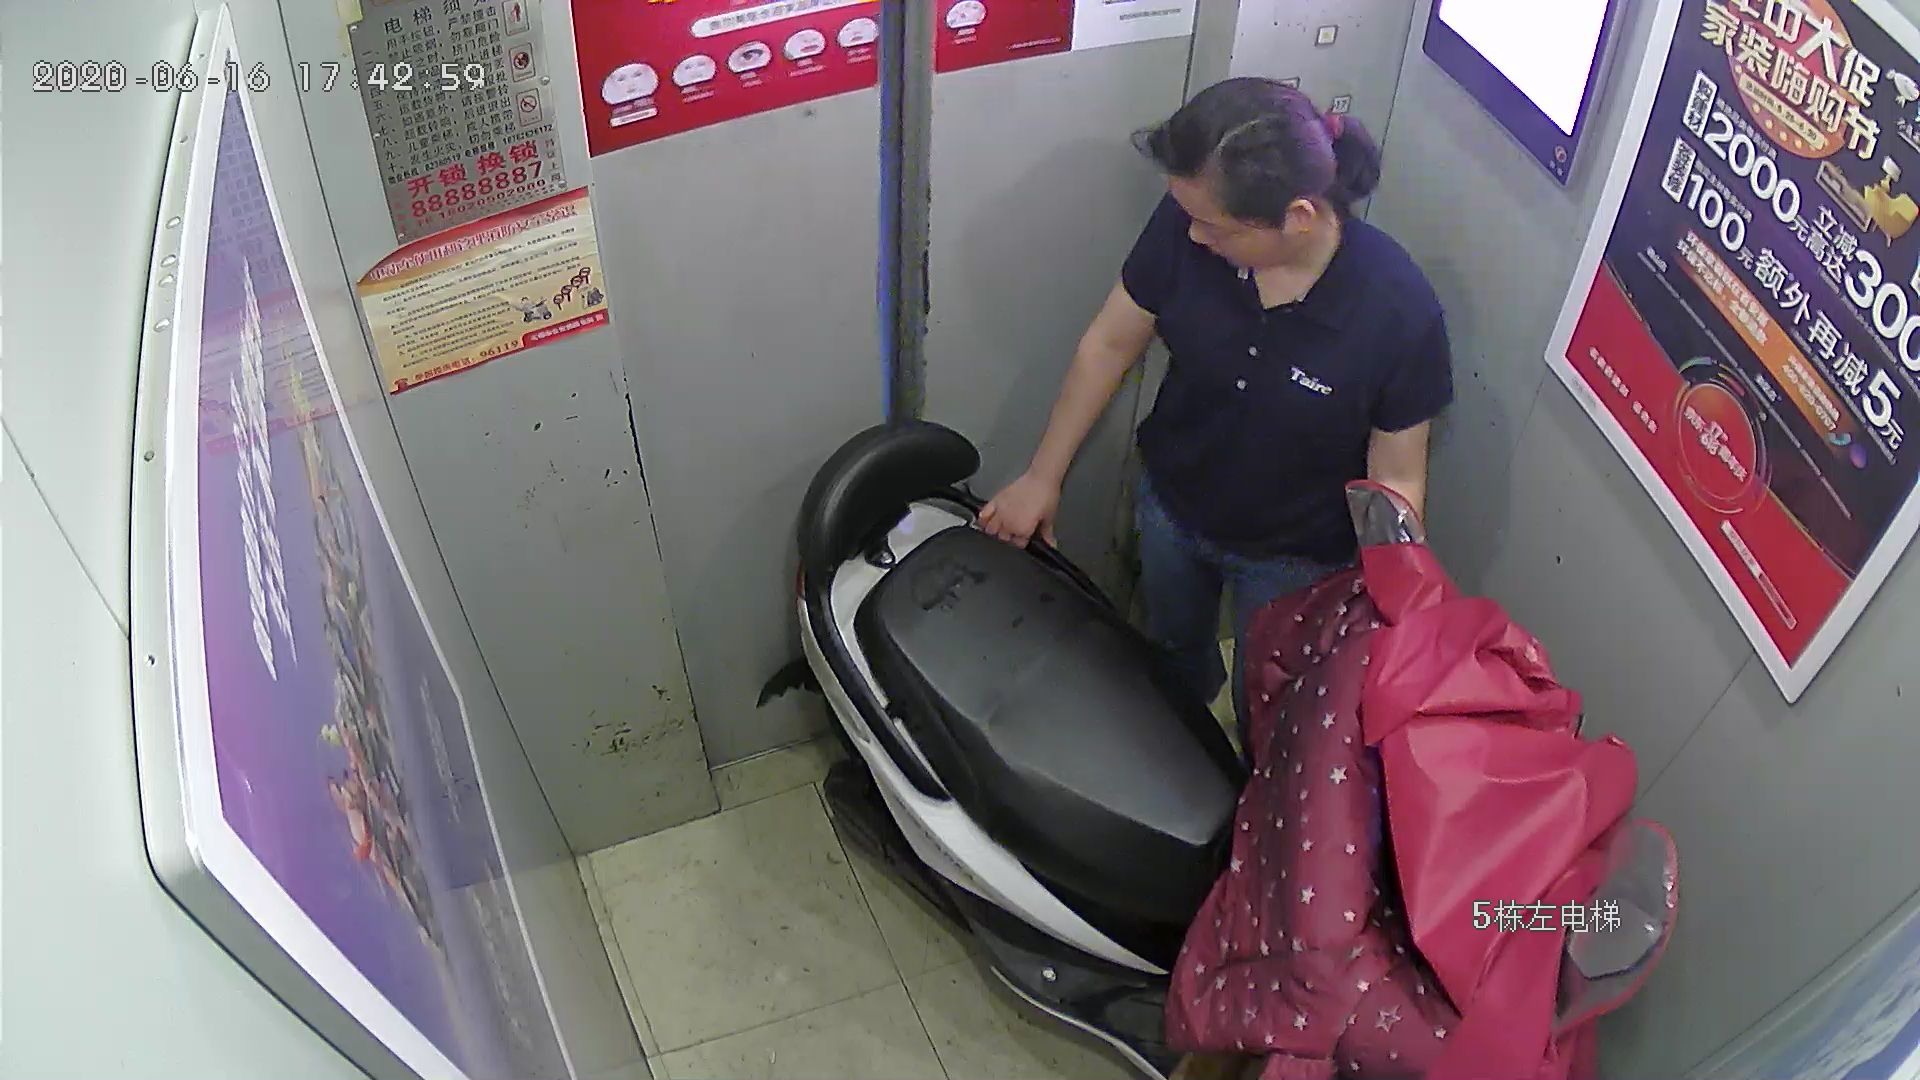Electric-bicycle: (791, 421, 1679, 1073)
